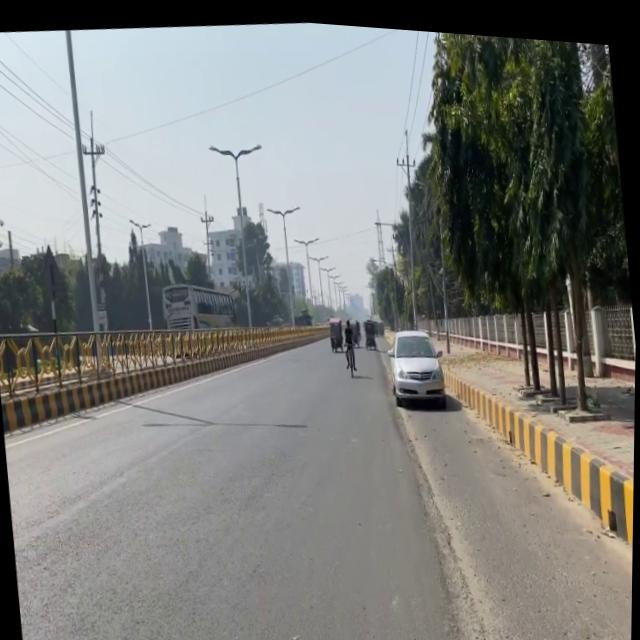Broken-road: (369, 303, 466, 413)
Construction-barrier: (370, 319, 504, 640)
Downstairs: (328, 311, 345, 347)
Garbage: (344, 335, 359, 370)
Garbage-bin: (341, 313, 360, 364)
Pole: (0, 292, 198, 449)
Pothole: (377, 296, 637, 640)
Traffic-cone: (159, 272, 240, 334)
